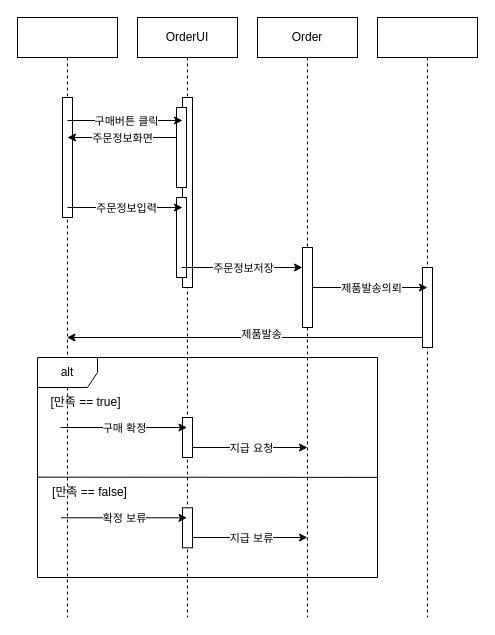
This 495x635 diagram has some shape labels left out. The box of each missing label's shape, as (x1, y1, x2, y2) in pixels:
Customer: (16, 16, 118, 618)
Delivery: (376, 16, 478, 618)
